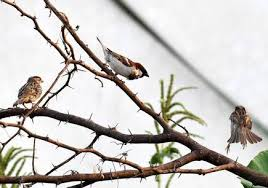hsparrow: (93, 33, 154, 83), (225, 102, 265, 152), (12, 74, 44, 112)
